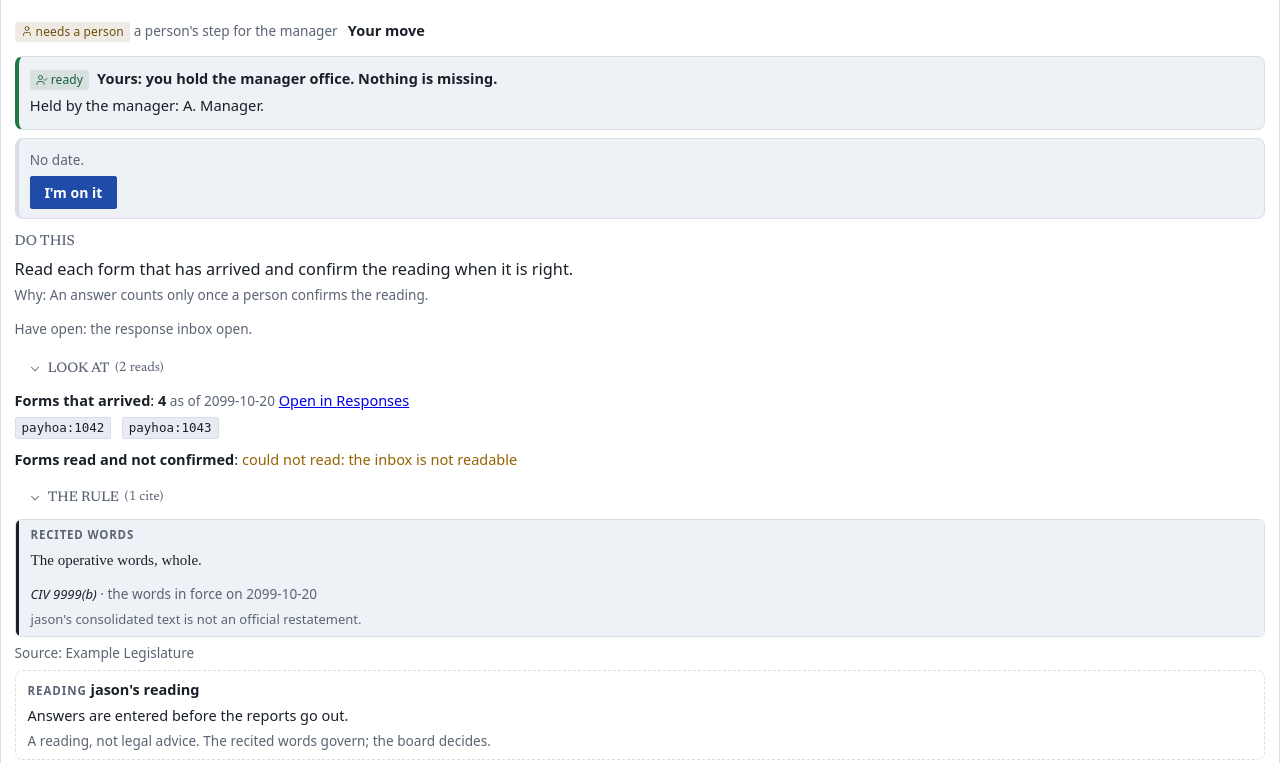
Test: the guided step panel › posts a claim through the writer with the run's n and shows the server's refusal as given
Click the button "I'm on it": (73, 193) x1=30 y1=176 x2=117 y2=209
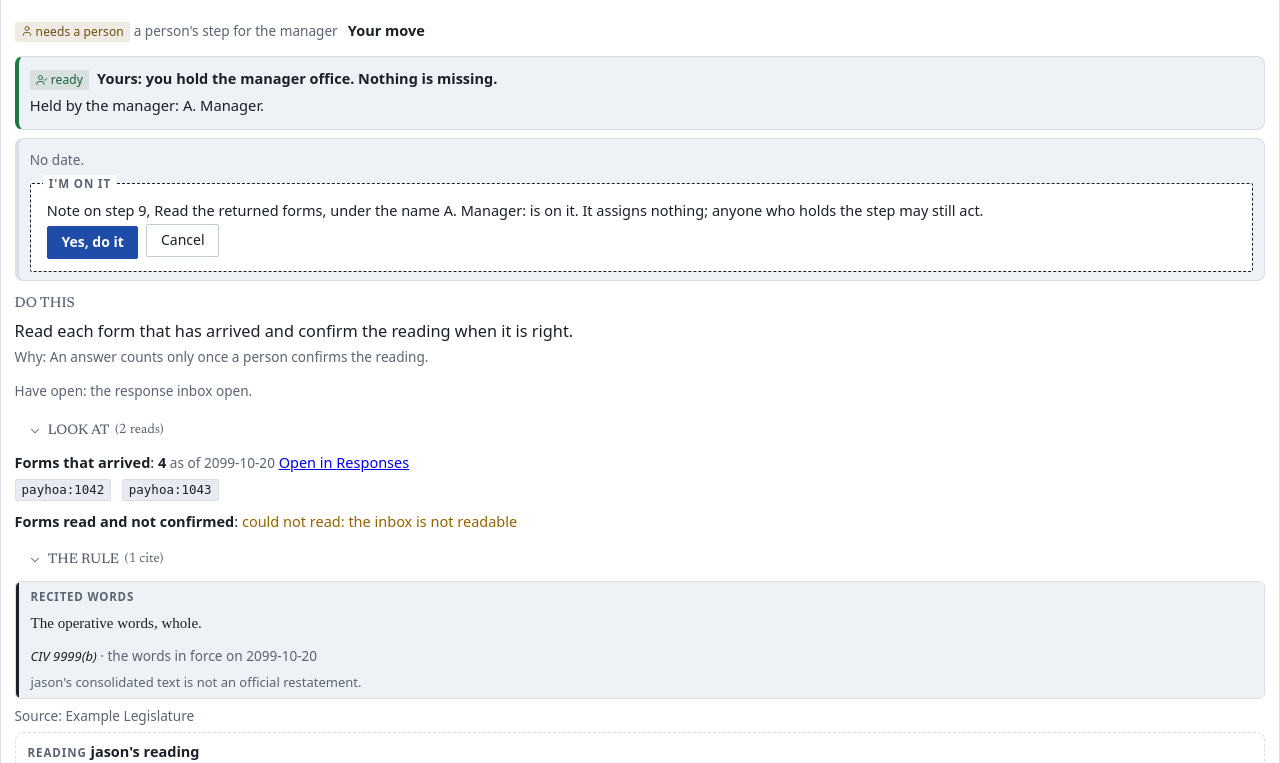
Click the button "Yes, do it": (93, 242) x1=47 y1=226 x2=138 y2=259
(page scrolled)
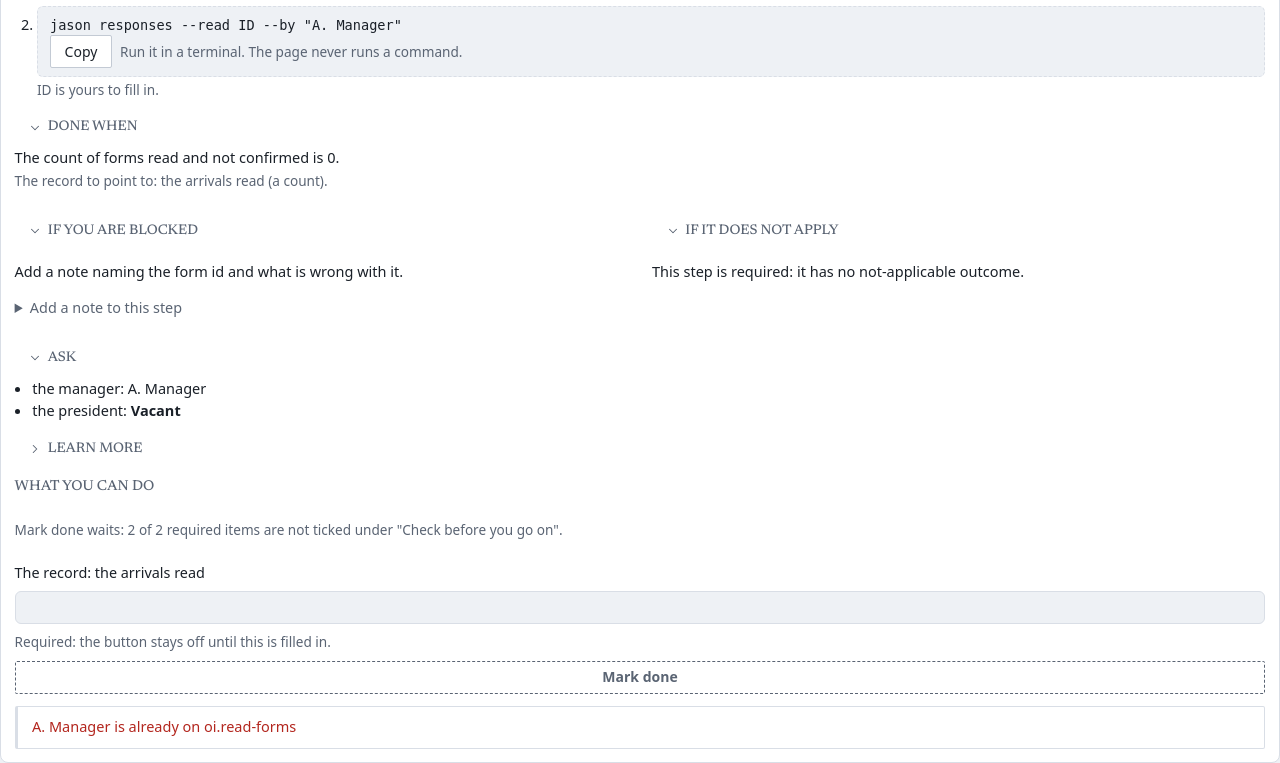
Expected: the message reads "A. Manager is already on oi.read-forms", x1=32 y1=716 x2=296 y2=736
